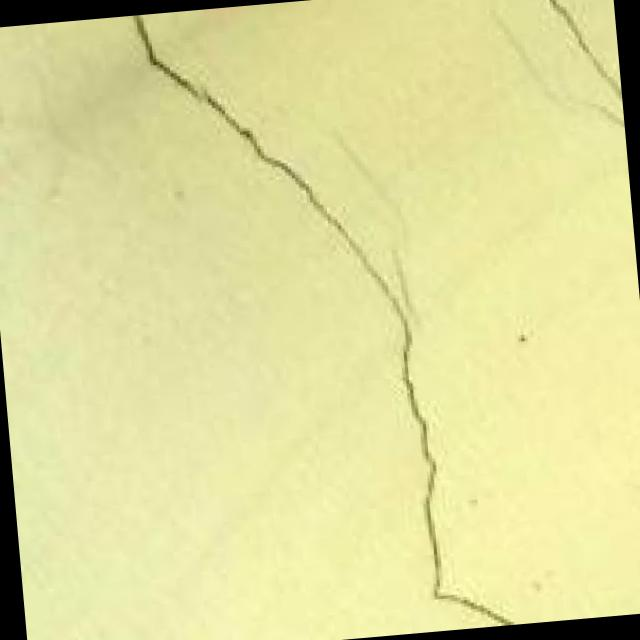crack: (107, 0, 554, 640)
